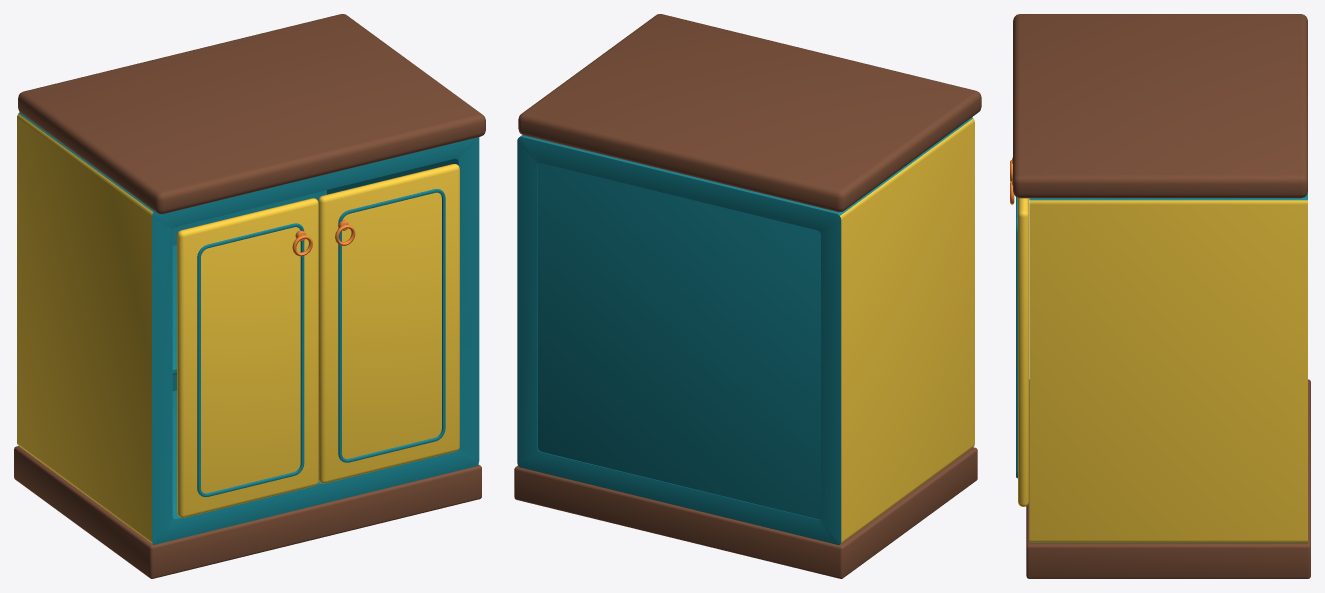
Rendered from armario_cozinha_base_2portas_colonial.glb.
3 renders of one model, left to right at view 1: azimuth 30°, elevation 25°; view 2: azimuth 150°, elevation 25°; view 3: azimuth 270°, elevation 25°, orthographic. The views are drawn at different scales.
Parts seen in each view (by area): view 1: armario_cozinha_base_2portas_colonial, porta_2, porta_1; view 2: armario_cozinha_base_2portas_colonial; view 3: armario_cozinha_base_2portas_colonial, porta_2.
Boxes of the visible parts, x1,y1,x2,y2 form: armario_cozinha_base_2portas_colonial: [14, 14, 485, 578]; porta_2: [318, 164, 459, 483]; porta_1: [177, 198, 318, 517]; armario_cozinha_base_2portas_colonial: [514, 14, 981, 578]; armario_cozinha_base_2portas_colonial: [1013, 14, 1310, 578]; porta_2: [1010, 179, 1028, 506].
Size of the model in its own units: 0.804 by 0.9 by 0.6112.
1 material, 1 textured.
